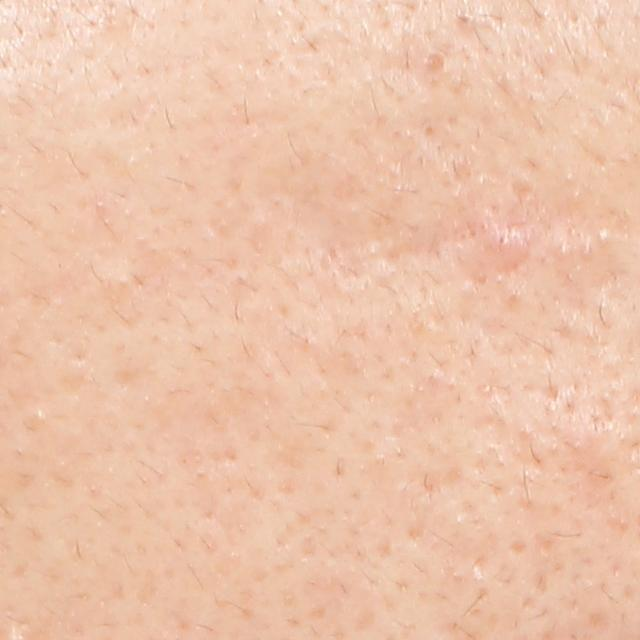comedo: (420, 51, 448, 79)
